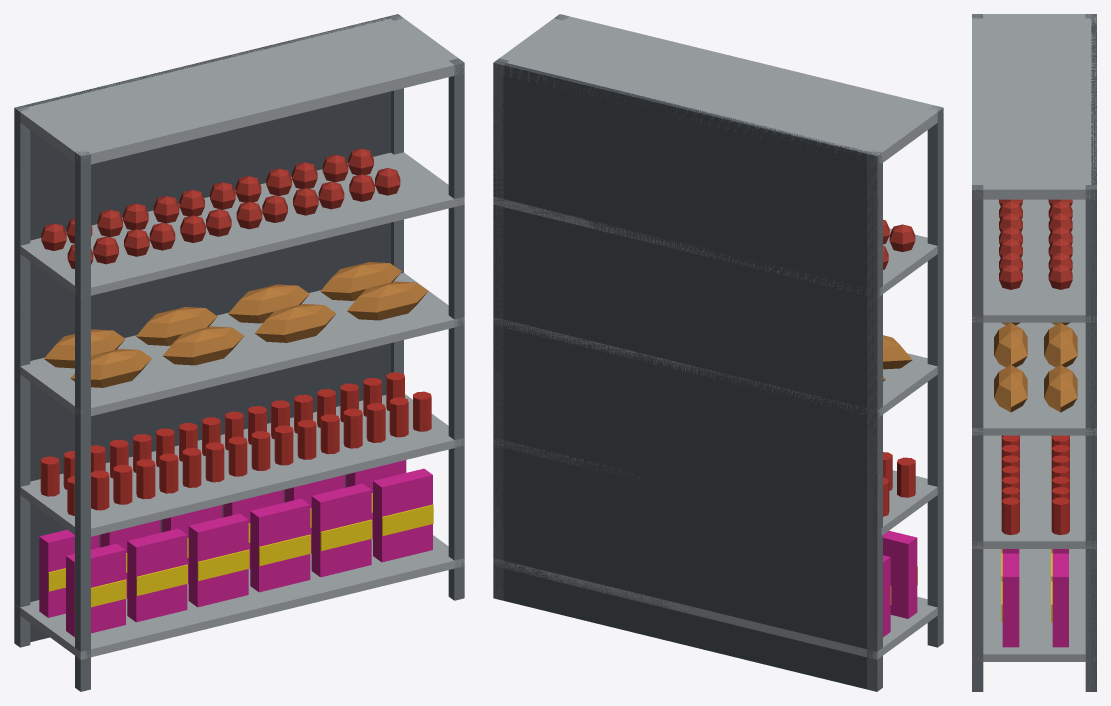
Rendered from scaffale.obj.
3 views of the same model, side by side, from view 1: azimuth 30°, elevation 25°; view 2: azimuth 150°, elevation 25°; view 3: azimuth 270°, elevation 25° (orthographic). The views are drawn at different scales.
Visible parts, largest first — view 1: parte_02, parte_01, parte_03, parte_00, parte_05, parte_06, parte_07, parte_04; view 2: parte_01, parte_02, parte_00, parte_03, parte_05, parte_07, parte_06; view 3: parte_02, parte_00, parte_06, parte_07, parte_05, parte_03, parte_01, parte_04.
Part boxes in pixels (x1,y1,x2,y2): parte_02: (14, 14, 464, 659); parte_01: (14, 14, 400, 642); parte_03: (39, 460, 432, 637); parte_00: (14, 14, 464, 691); parte_05: (40, 372, 431, 515); parte_06: (44, 262, 428, 387); parte_07: (41, 148, 400, 268); parte_04: (48, 493, 433, 610); parte_01: (493, 60, 879, 691); parte_02: (493, 14, 943, 659); parte_00: (493, 14, 943, 691); parte_03: (883, 530, 917, 637); parte_05: (883, 452, 915, 516); parte_07: (883, 219, 915, 269); parte_06: (883, 335, 912, 381); parte_02: (972, 14, 1096, 661); parte_00: (972, 14, 1096, 691); parte_06: (994, 322, 1077, 412); parte_07: (999, 199, 1072, 289); parte_05: (1001, 435, 1069, 534); parte_03: (1002, 549, 1068, 647); parte_01: (1091, 14, 1096, 691); parte_04: (1001, 549, 1052, 622).
Size of the model in its own units: 1.5 by 2 by 0.45.
